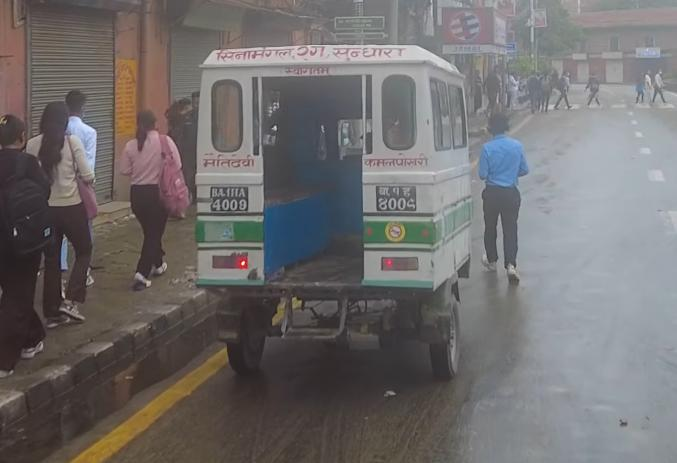tempo: (180, 32, 494, 391)
